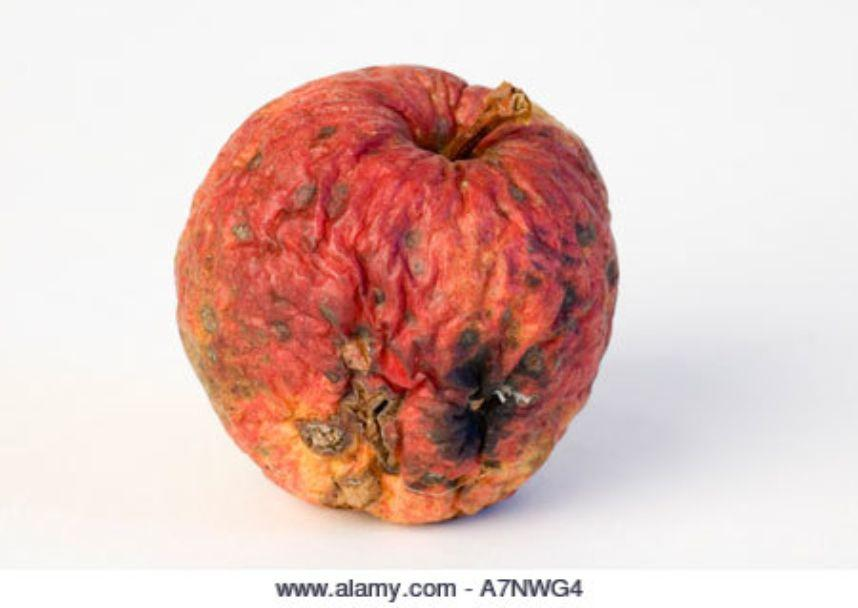ROT: (138, 48, 639, 532)
